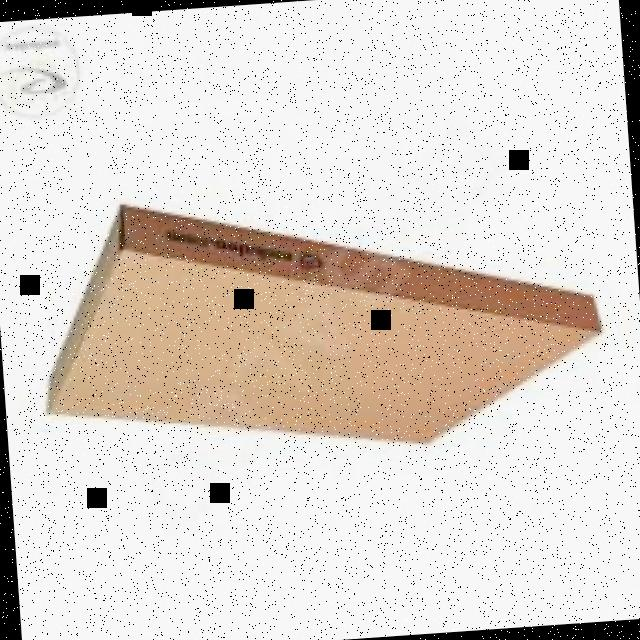cardboard_box: (31, 150, 614, 487)
